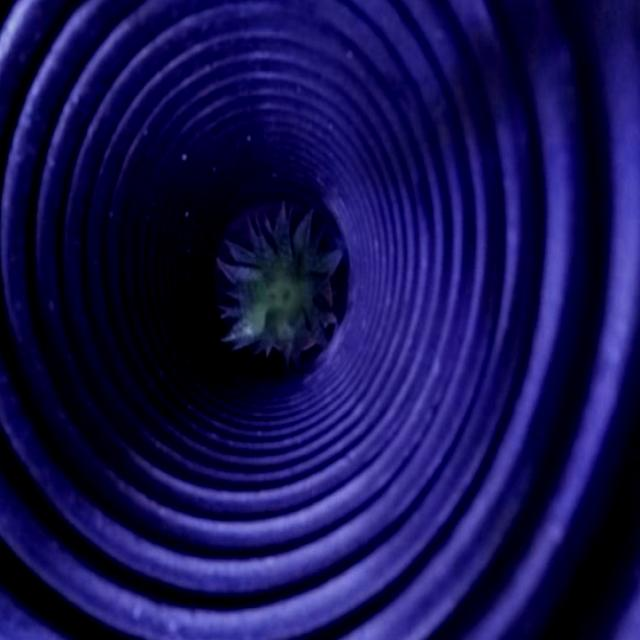leaf: (225, 213, 347, 366)
